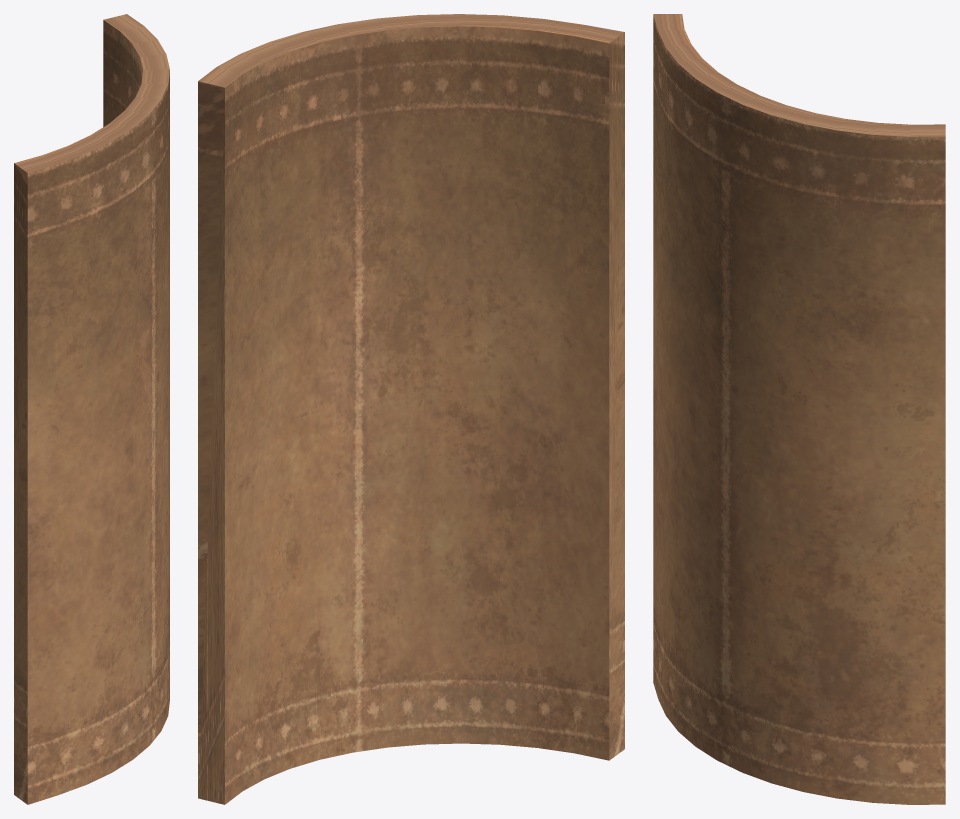
Rendered from Wall_1_G_2.fbx.
The picture shows the model from 3 angles, left to right: view 1: azimuth 30°, elevation 25°; view 2: azimuth 150°, elevation 25°; view 3: azimuth 270°, elevation 25°; orthographic projection. The views are drawn at different scales.
Visible parts, largest first — view 1: Wall_1_G_2; view 2: Wall_1_G_2; view 3: Wall_1_G_2.
Boxes of the visible parts, box(x1,y1,x2,y2) form: Wall_1_G_2: box(14, 14, 169, 804); Wall_1_G_2: box(198, 14, 624, 804); Wall_1_G_2: box(653, 14, 945, 804).
Size of the model in its own units: 1 by 2.53 by 1.01.
